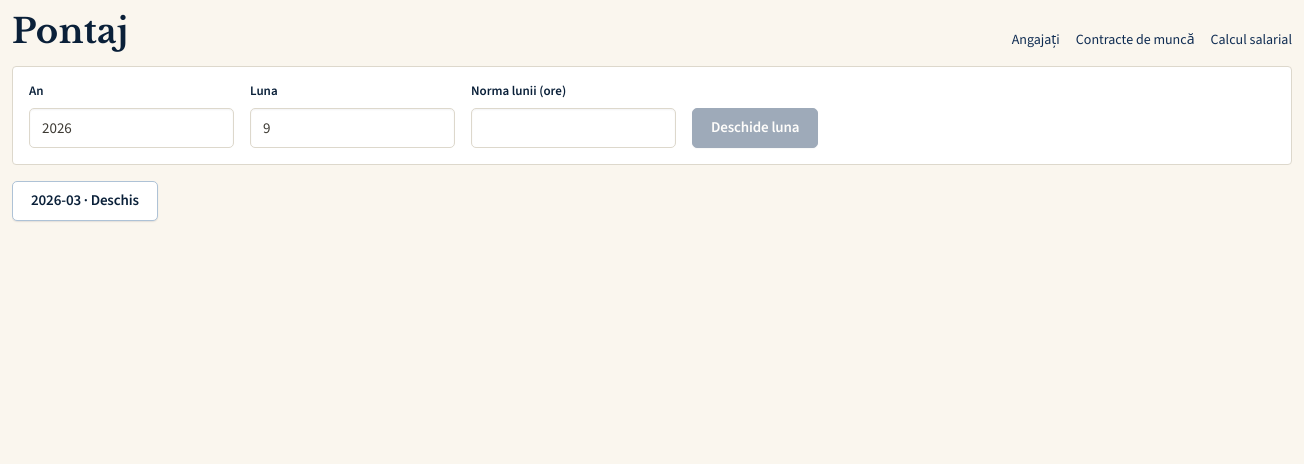
ecranele › pontajul arată totalurile serverului, nu unele calculate aici
Click the button "2026-03 · Deschis".
click(85, 201)  # box [12,181,158,221]
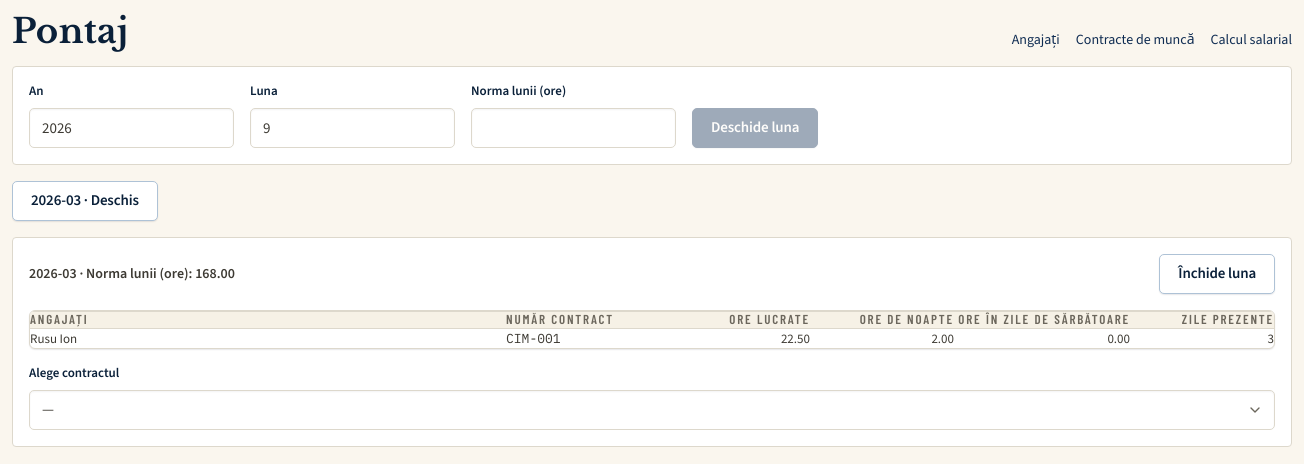
Result: the text "Rusu Ion" is shown at [30,328,506,348]
Result: the text "22.50" is shown at [666,328,810,348]
